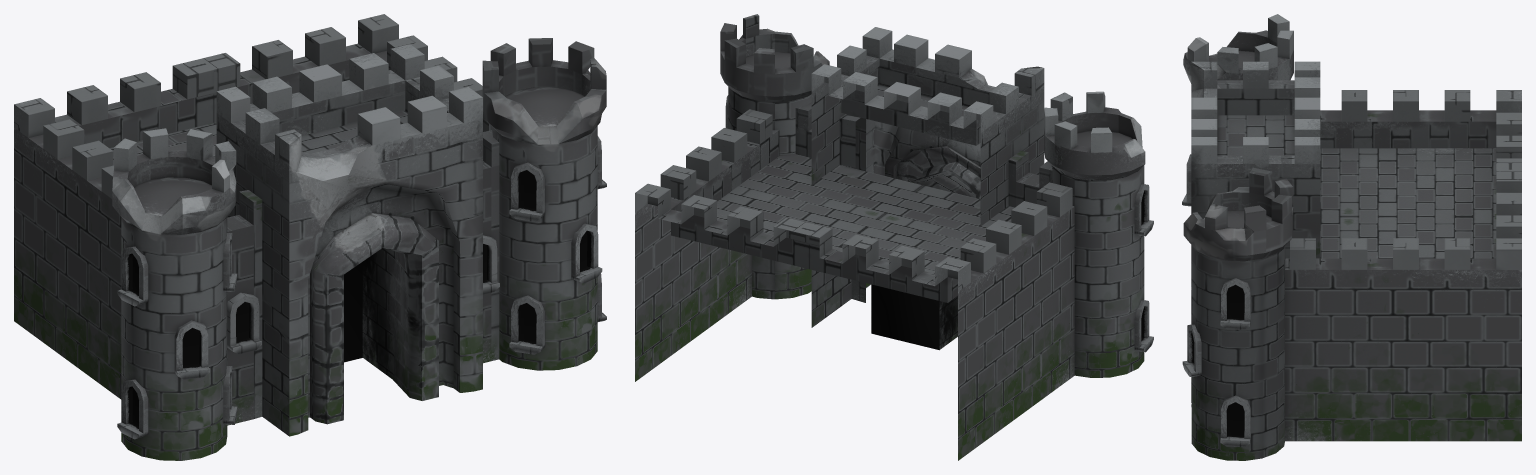
File: Broken Castle.fbx
3 views of the same model, side by side, from view 1: azimuth 30°, elevation 25°; view 2: azimuth 150°, elevation 25°; view 3: azimuth 270°, elevation 25° (orthographic). The views are drawn at different scales.
Visible parts, largest first — view 1: Castle_Damaged; view 2: Castle_Damaged; view 3: Castle_Damaged.
Part boxes in pixels (<box>): Castle_Damaged: <box>14,14,606,460</box>; Castle_Damaged: <box>635,14,1153,460</box>; Castle_Damaged: <box>1182,14,1521,460</box>.
Size of the model in its own units: 1554 by 904 by 1080.
